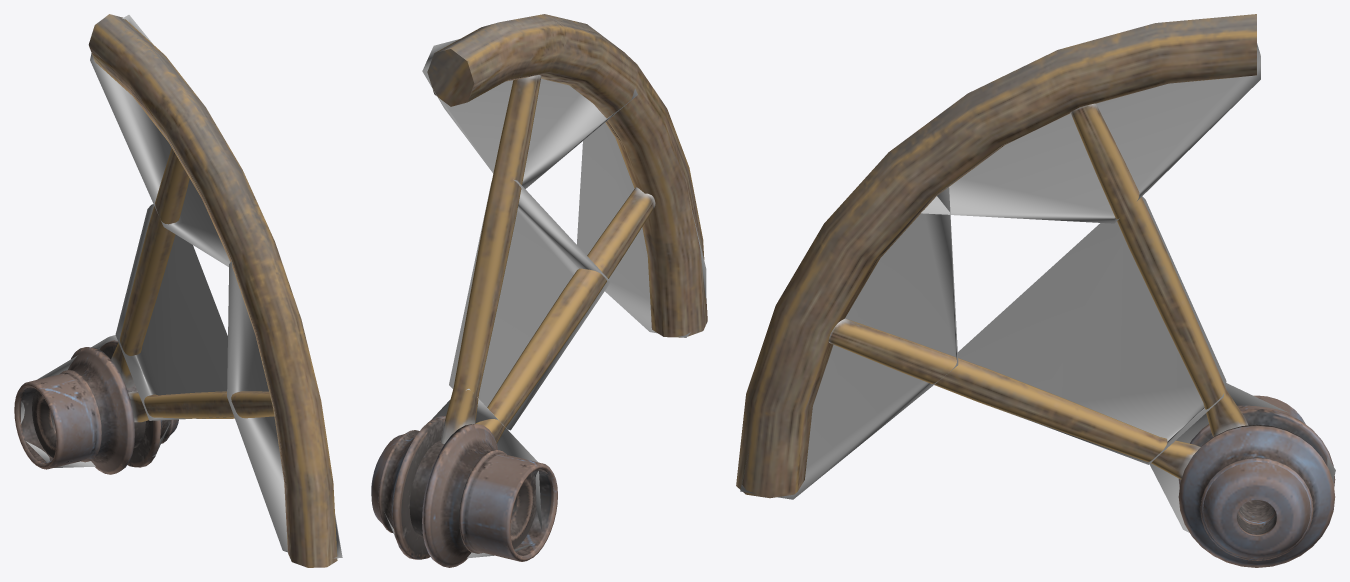
The model's file is SM_Broken_Wheel.gltf.
The picture shows the model from 3 angles, left to right: view 1: azimuth 30°, elevation 25°; view 2: azimuth 150°, elevation 25°; view 3: azimuth 270°, elevation 25°; orthographic projection. The views are drawn at different scales.
Parts seen in each view (by area): view 1: SM_Broken_Wheel_LOD0, SM_Broken_Wheel_ConvexHulls; view 2: SM_Broken_Wheel_LOD0, SM_Broken_Wheel_ConvexHulls; view 3: SM_Broken_Wheel_LOD0, SM_Broken_Wheel_ConvexHulls.
Boxes of the visible parts, x1,y1,x2,y2 form: SM_Broken_Wheel_LOD0: [14, 14, 337, 567]; SM_Broken_Wheel_ConvexHulls: [20, 15, 342, 558]; SM_Broken_Wheel_LOD0: [371, 14, 707, 567]; SM_Broken_Wheel_ConvexHulls: [384, 39, 706, 558]; SM_Broken_Wheel_LOD0: [736, 14, 1335, 567]; SM_Broken_Wheel_ConvexHulls: [740, 43, 1335, 532].
Size of what is drawn, in the model's own units: 0.2512 by 0.8496 by 0.8506.
